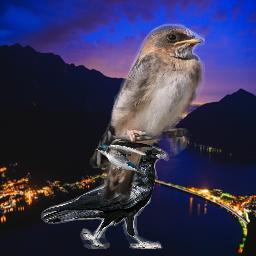Crow: (41, 146, 169, 249)
Swallow: (90, 23, 205, 204), (95, 141, 152, 176)
